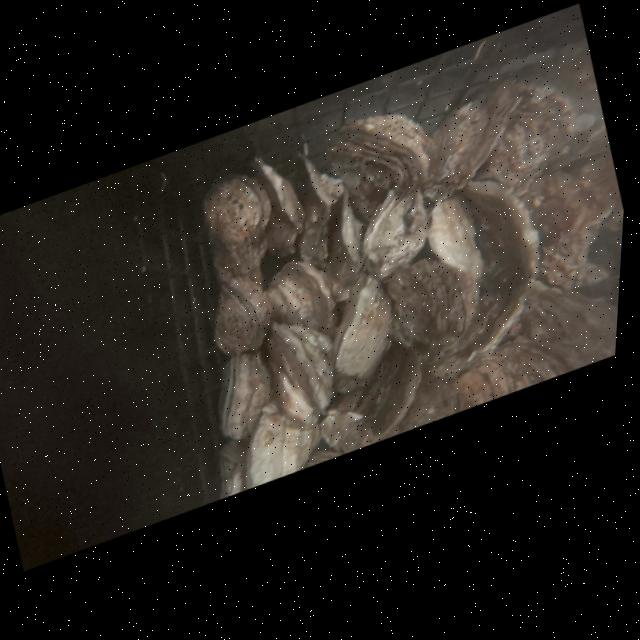Oyster-Closed: (403, 69, 546, 205), (314, 92, 443, 226), (190, 157, 292, 291), (227, 383, 331, 490), (349, 176, 443, 284), (201, 338, 289, 447), (194, 261, 283, 366)
Oyster-Indeterminate: (454, 54, 618, 208), (491, 242, 622, 393), (510, 147, 627, 301), (376, 236, 496, 374), (322, 334, 439, 453), (438, 319, 578, 415), (244, 140, 318, 266), (314, 393, 380, 461), (207, 432, 258, 499)
Oyster-Open: (409, 155, 567, 367), (273, 132, 384, 311), (252, 297, 352, 435), (312, 264, 413, 398), (256, 246, 343, 351)
